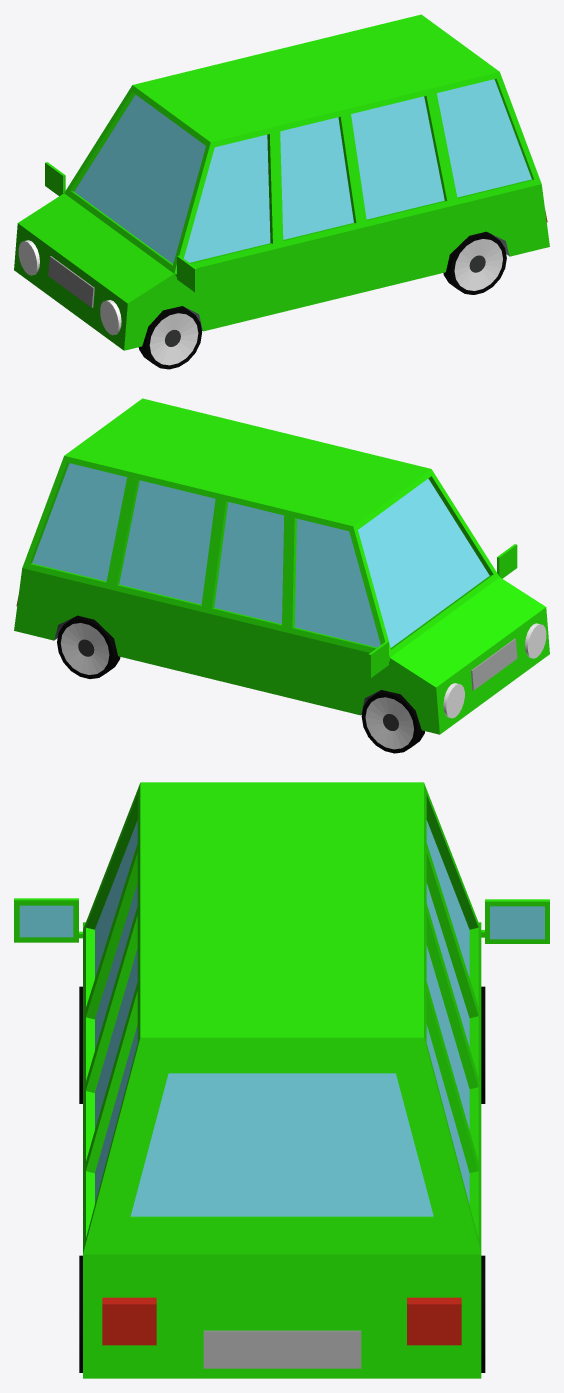
The model's file is car3A.FBX.
3 renders of one model, top to bottom at view 1: azimuth 30°, elevation 25°; view 2: azimuth 150°, elevation 25°; view 3: azimuth 270°, elevation 25°, orthographic. The views are drawn at different scales.
Visible parts, largest first — view 1: car3A; view 2: car3A; view 3: car3A.
Boxes of the visible parts, x1,y1,x2,y2 form: car3A: (14, 14, 549, 369); car3A: (14, 398, 549, 753); car3A: (14, 782, 549, 1378).
Size of the model in its own units: 12.5 by 5.57 by 7.46.
